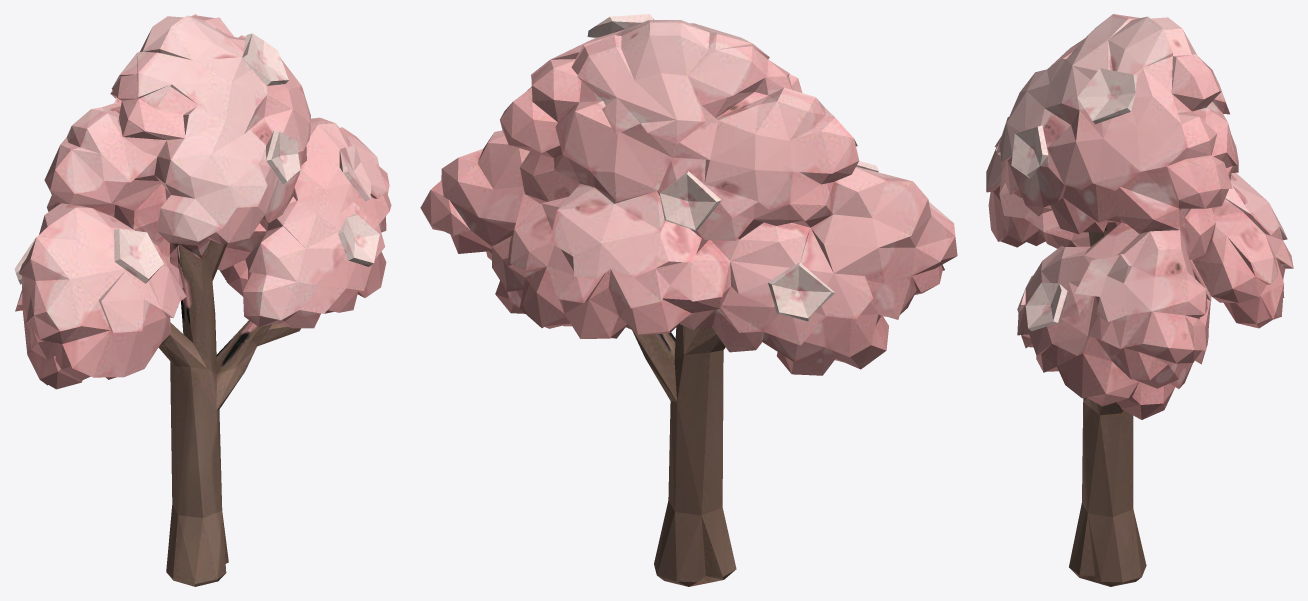
Rendered from sakura-gWnQOdT6.glb.
The picture shows the model from 3 angles, left to right: view 1: azimuth 30°, elevation 25°; view 2: azimuth 150°, elevation 25°; view 3: azimuth 270°, elevation 25°; orthographic projection. The views are drawn at different scales.
Visible parts, largest first — view 1: tripo_node_77077f5c-85fd-4f0d-944c-da05ed449613; view 2: tripo_node_77077f5c-85fd-4f0d-944c-da05ed449613; view 3: tripo_node_77077f5c-85fd-4f0d-944c-da05ed449613.
Part boxes in pixels (left/top/right/bottom): tripo_node_77077f5c-85fd-4f0d-944c-da05ed449613: left=14, top=14, right=391, bottom=586; tripo_node_77077f5c-85fd-4f0d-944c-da05ed449613: left=420, top=14, right=957, bottom=586; tripo_node_77077f5c-85fd-4f0d-944c-da05ed449613: left=986, top=14, right=1293, bottom=586.
Bounding box in the file's own units: 0.8098 × 0.9784 × 0.4921.
1 material, 1 textured.
